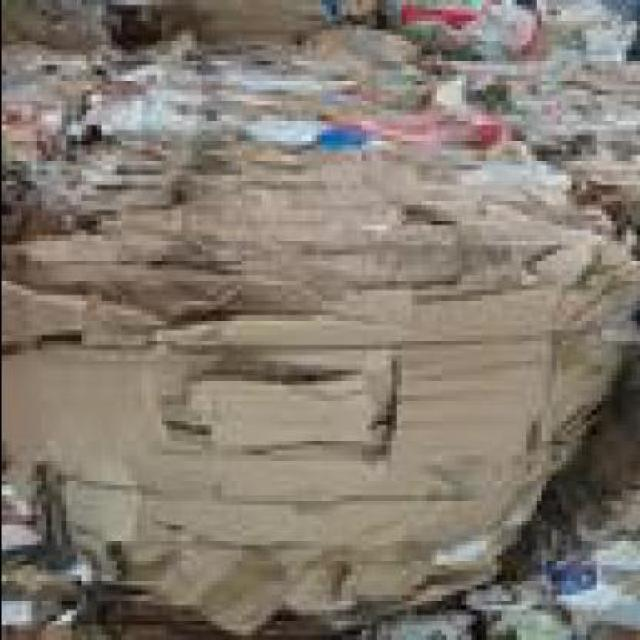CARDBOARD: (3, 4, 638, 640), (6, 4, 414, 604), (3, 335, 639, 640), (5, 35, 560, 190), (383, 395, 639, 640), (4, 185, 638, 266), (4, 260, 638, 337), (3, 470, 215, 638), (424, 64, 638, 230), (5, 290, 180, 465), (189, 370, 380, 455), (126, 5, 386, 60), (385, 5, 540, 66), (524, 5, 638, 66), (5, 5, 120, 60)
